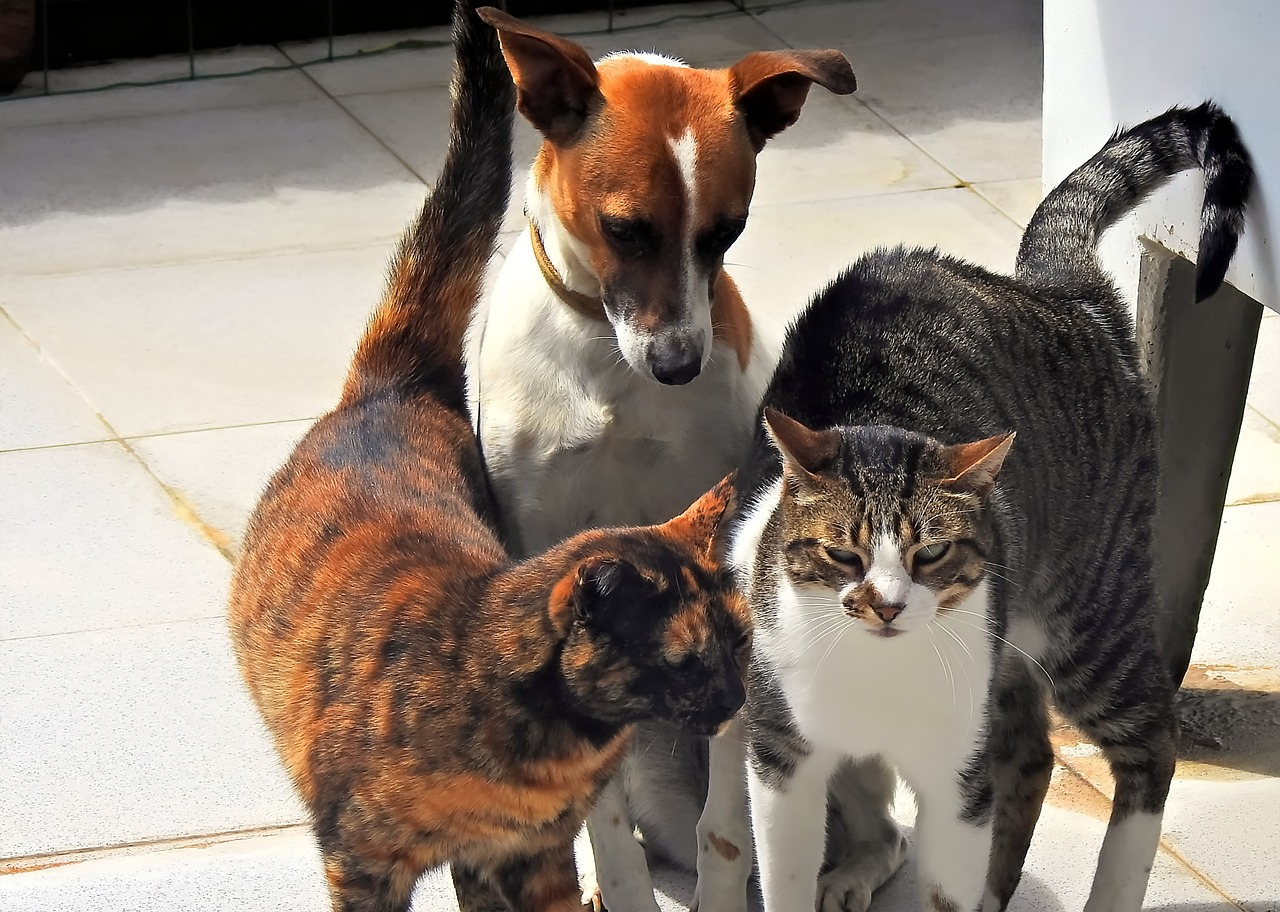anjing: (427, 8, 864, 373)
kucing: (761, 137, 1254, 912), (199, 379, 759, 912)
